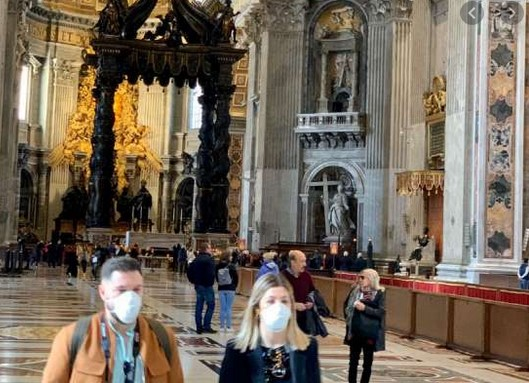face_no_mask: (282, 248, 308, 274), (356, 268, 379, 289)
face_with_mask: (96, 257, 147, 326), (250, 275, 296, 338)
